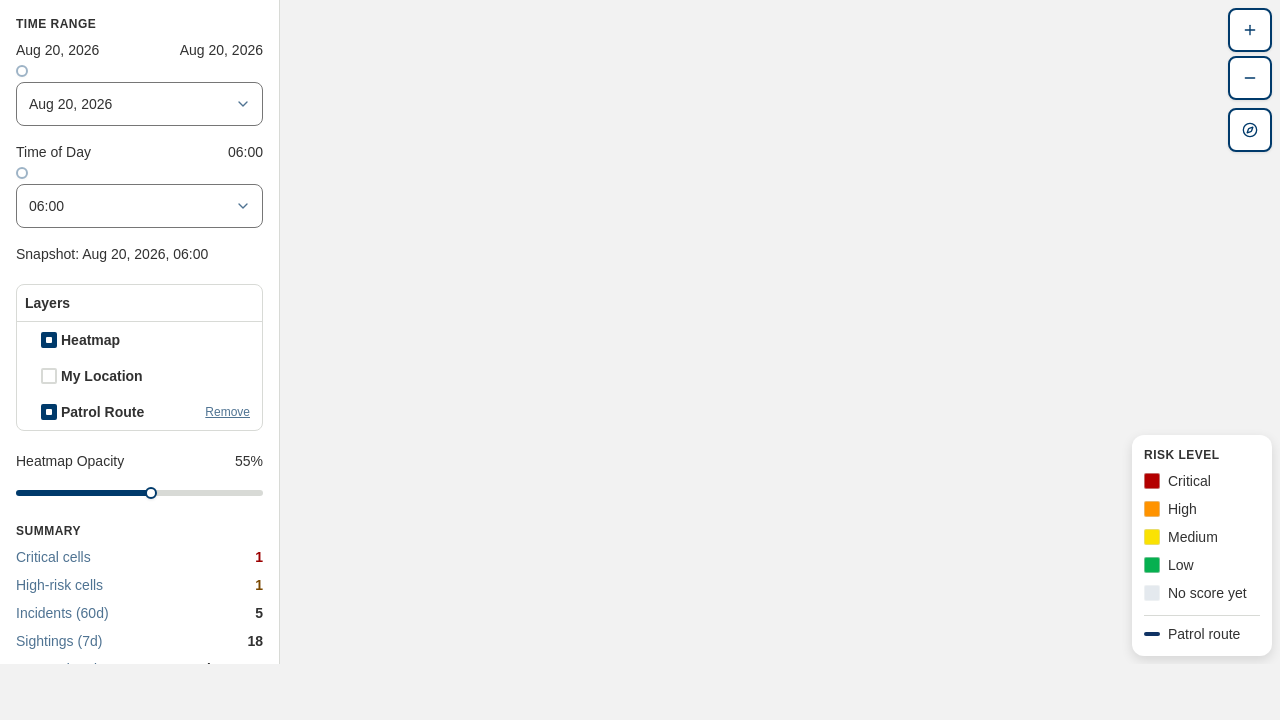
Test: MapPage › selects the patrol route row and reveals its opacity slider
Expected: the field labelled "patrol route opacity" is not shown
Click the button "Patrol Route". click: (129, 412)
box: [61,402,197,422]
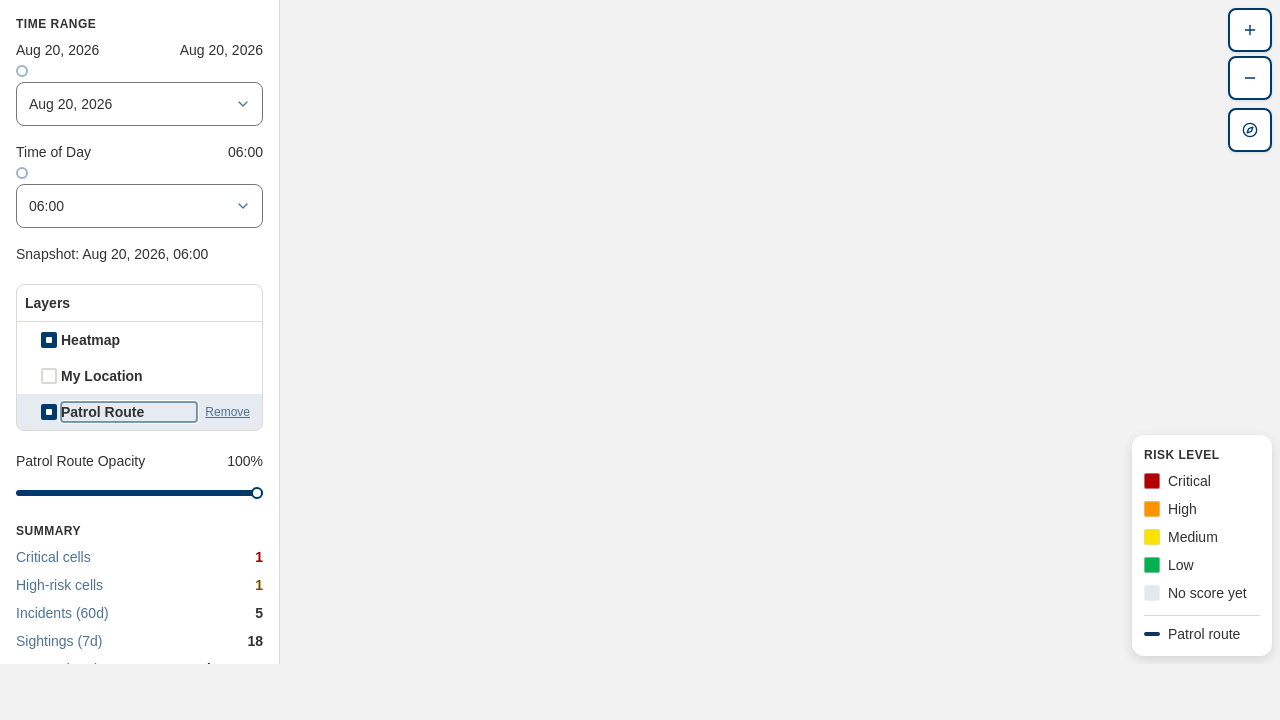
Now the slider named "patrol route opacity" is shown, box [16,490,263,496]
